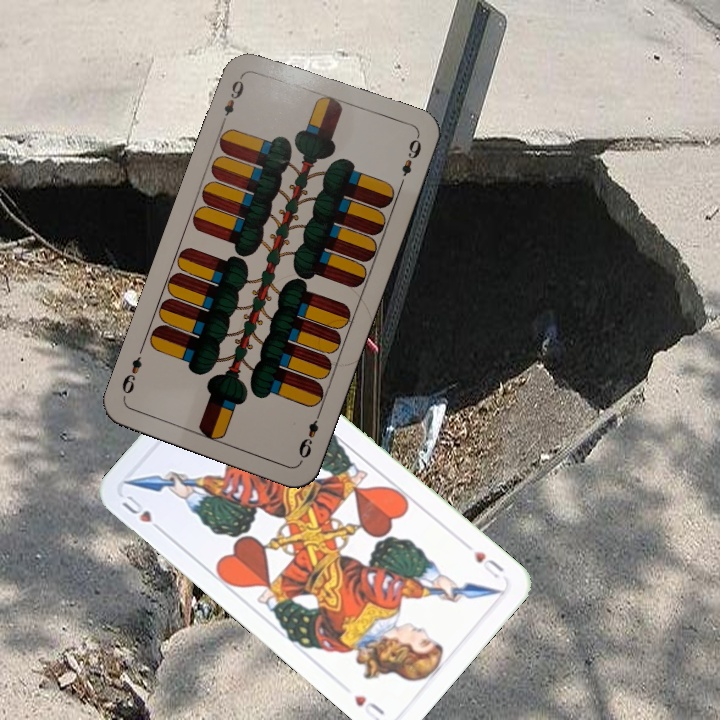E9: (218, 70, 247, 127), (294, 407, 324, 461)
HU: (118, 491, 167, 536), (469, 547, 507, 581)
